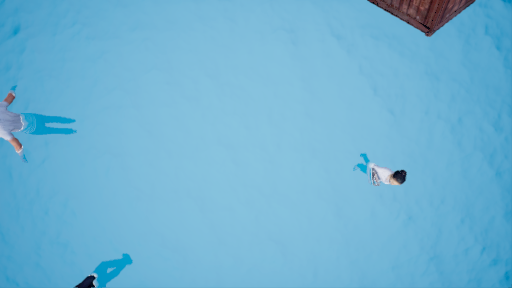person: (351, 155, 411, 196)
